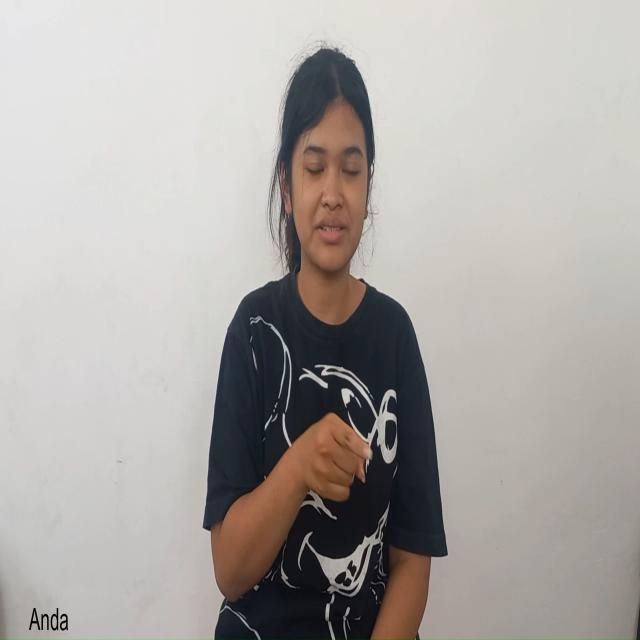Anda -BISINDO-: (280, 360, 402, 564)
